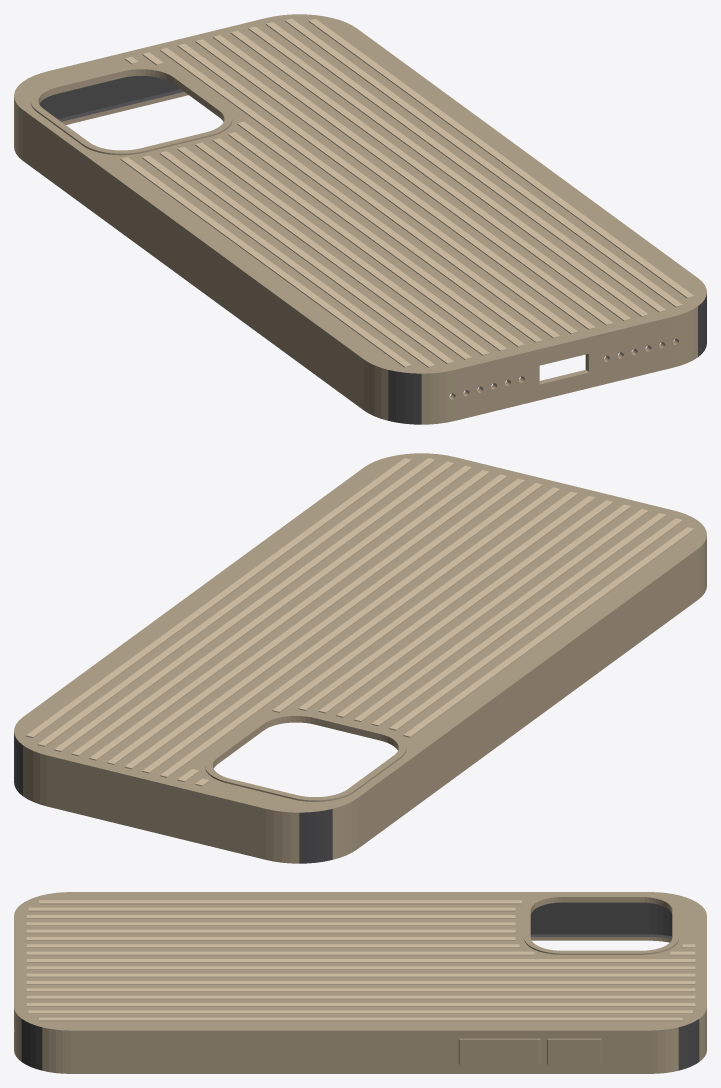
The model's file is kilif-budget-serit-kum.glb.
3 views of the same model, one above another, from view 1: azimuth 30°, elevation 25°; view 2: azimuth 150°, elevation 25°; view 3: azimuth 270°, elevation 25° (orthographic). The views are drawn at different scales.
Visible parts, largest first — view 1: Kilif; view 2: Kilif; view 3: Kilif.
Boxes of the visible parts, x1,y1,x2,y2 form: Kilif: (14,14,706,424); Kilif: (14,453,706,863); Kilif: (14,892,706,1073).
Bounding box in the file's own units: 0.0799 × 0.012 × 0.1679.
